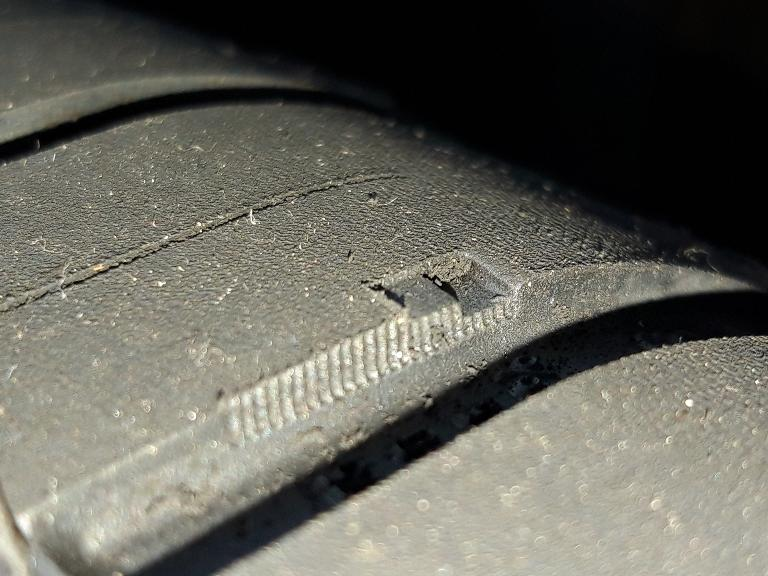temoin:25: (356, 241, 531, 370)
